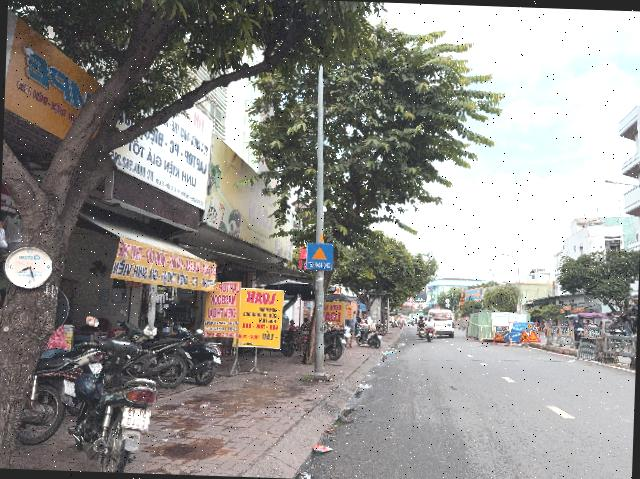khu-vuc-cho-phia-truoc: (306, 243, 334, 270)
